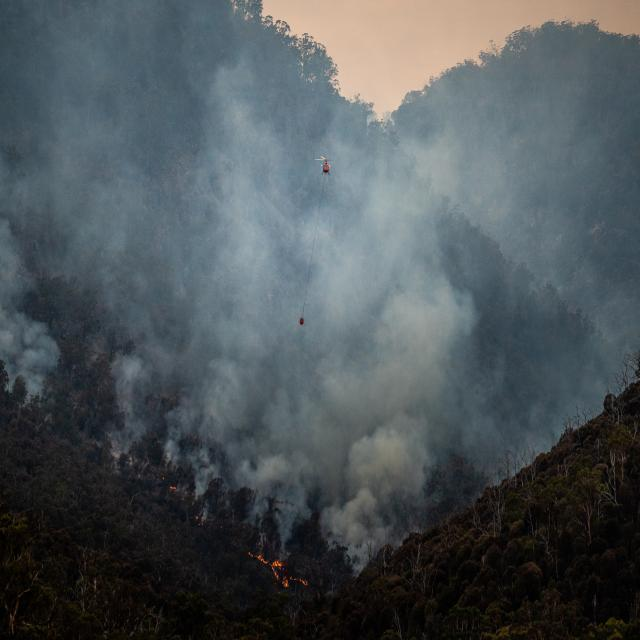Fire: (258, 548, 309, 607), (273, 561, 285, 582)
Smoke: (16, 18, 631, 479)
